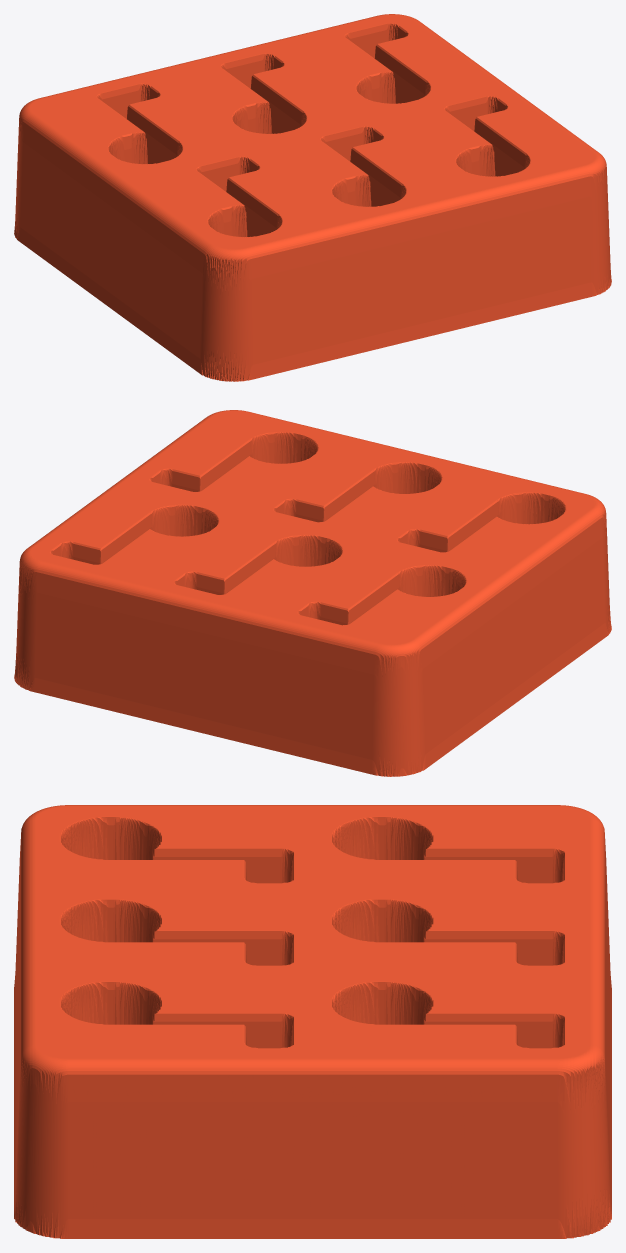
Rendered from mold.glb.
3 views of the same model, one above another, from view 1: azimuth 30°, elevation 25°; view 2: azimuth 150°, elevation 25°; view 3: azimuth 270°, elevation 25° (orthographic). The views are drawn at different scales.
Visible parts, largest first — view 1: geometry_0; view 2: geometry_0; view 3: geometry_0.
Boxes of the visible parts, left/top/right/bottom form: geometry_0: left=14, top=14, right=611, bottom=381; geometry_0: left=14, top=410, right=611, bottom=776; geometry_0: left=14, top=805, right=611, bottom=1238.
Size of the model in its own units: 0.1066 by 0.0314 by 0.0996.
